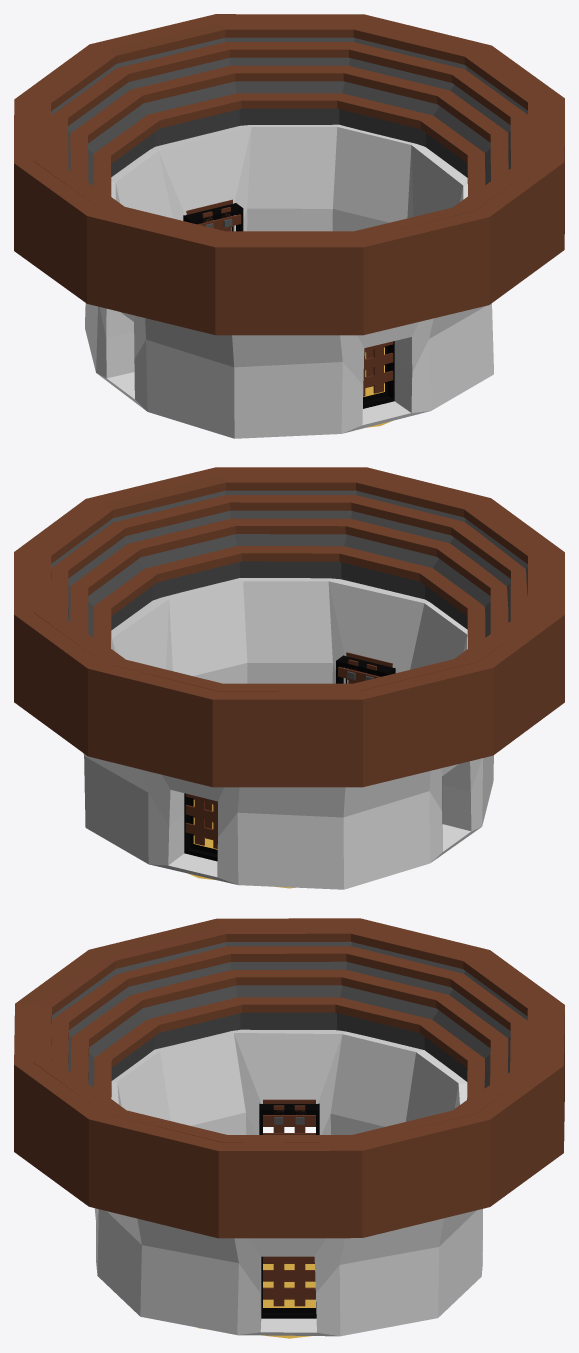
The model's file is mapa_koloseum.fbx.
3 views of the same model, one above another, from view 1: azimuth 30°, elevation 25°; view 2: azimuth 150°, elevation 25°; view 3: azimuth 270°, elevation 25° (orthographic).
Visible parts, largest first — view 1: Cube.004, Cylinder, Cube.001, Cube; view 2: Cube.004, Cylinder, Cube.001, Cube; view 3: Cube.004, Cylinder, Cube.001, Cube, Cylinder.001.
Boxes of the visible parts, x1=… form: Cube.004: x1=14, y1=14, x2=564, y2=335; Cylinder: x1=85, y1=124, x2=493, y2=438; Cube.001: x1=186, y1=199, x2=393, y2=396; Cube: x1=183, y1=203, x2=394, y2=408; Cube.004: x1=14, y1=467, x2=564, y2=787; Cylinder: x1=83, y1=578, x2=493, y2=889; Cube.001: x1=185, y1=652, x2=392, y2=848; Cube: x1=184, y1=655, x2=442, y2=861; Cube.004: x1=14, y1=918, x2=564, y2=1238; Cylinder: x1=94, y1=1029, x2=482, y2=1336; Cube.001: x1=263, y1=1099, x2=315, y2=1306; Cube: x1=259, y1=1103, x2=319, y2=1318; Cylinder.001: x1=198, y1=1264, x2=315, y2=1338.
Size of the model in its own units: 335 by 153 by 335.
